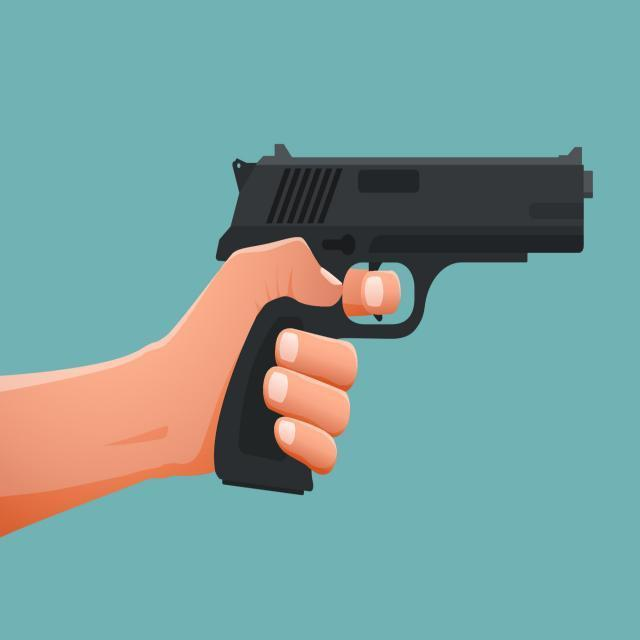gun: (215, 142, 597, 489)
